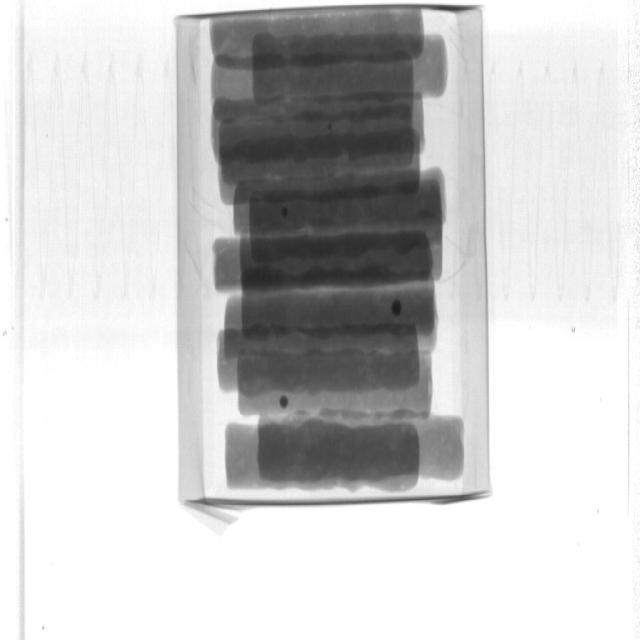ym: (392, 301, 403, 318), (281, 396, 290, 408), (283, 209, 289, 217), (327, 123, 333, 130)
